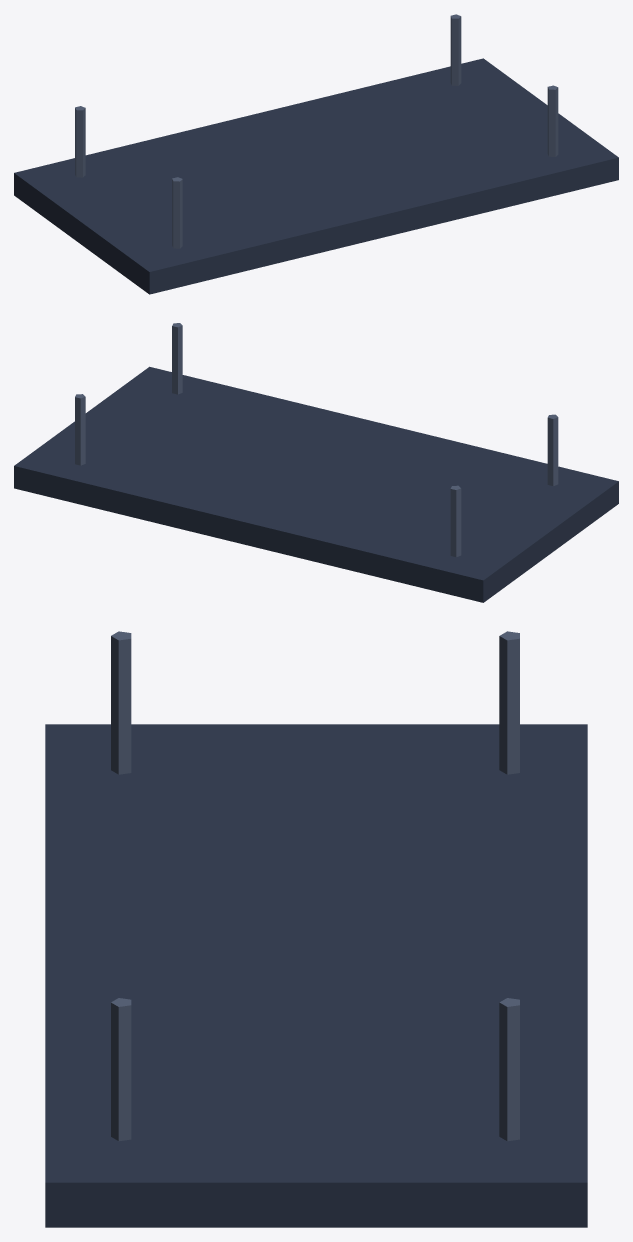
The model's file is mall_ceiling_panel.glb.
3 views of the same model, one above another, from view 1: azimuth 30°, elevation 25°; view 2: azimuth 150°, elevation 25°; view 3: azimuth 270°, elevation 25° (orthographic). The views are drawn at different scales.
Parts seen in each view (by area): view 1: acoustic_tray, suspension; view 2: acoustic_tray, suspension; view 3: acoustic_tray, suspension.
Boxes of the visible parts, <box> form: acoustic_tray: <box>14,58,618,294</box>; suspension: <box>75,14,558,248</box>; acoustic_tray: <box>14,366,618,602</box>; suspension: <box>75,323,558,557</box>; acoustic_tray: <box>45,724,587,1227</box>; suspension: <box>111,631,519,1141</box>.
Size of the model in its own units: 2.4 by 0.45 by 1.2.
